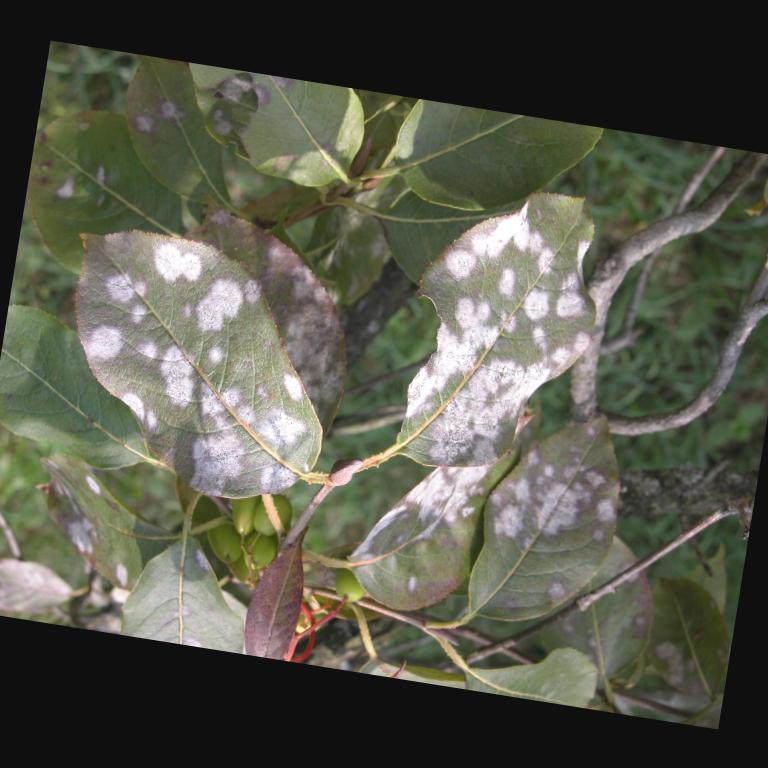powdery-mildew: (141, 336, 297, 482), (441, 228, 576, 373), (79, 243, 243, 335), (410, 365, 511, 453)
